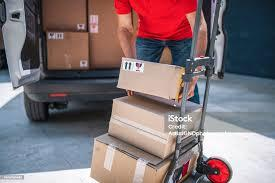Boxes: (111, 90, 202, 155), (88, 130, 197, 183), (116, 55, 184, 103)
